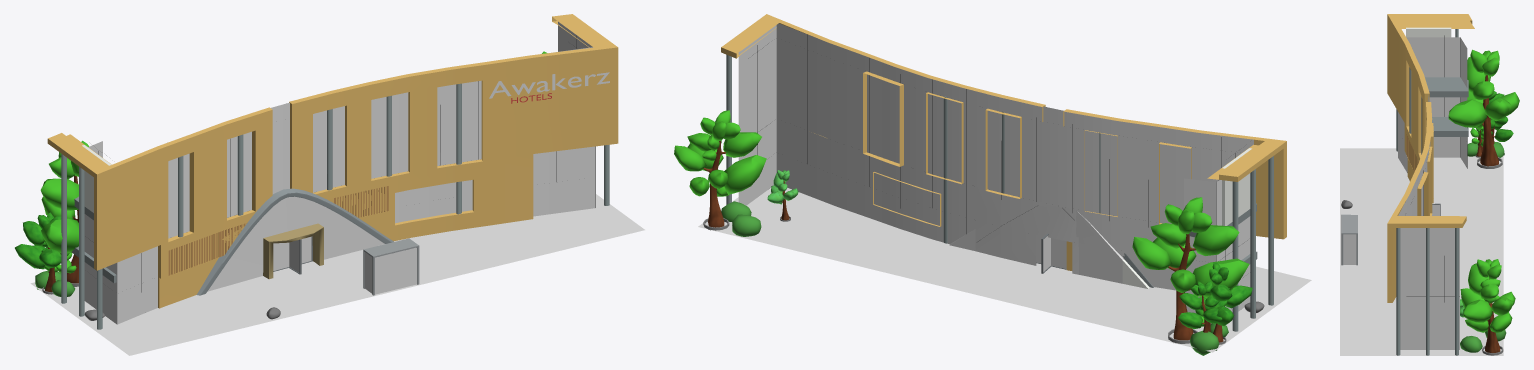
File: Train_Station_T2(2).fbx
The picture shows the model from 3 angles, left to right: view 1: azimuth 30°, elevation 25°; view 2: azimuth 150°, elevation 25°; view 3: azimuth 270°, elevation 25°; orthographic projection. The views are drawn at different scales.
Visible parts, largest first — view 1: Train Station.010, Train Station.014, Train Station.008, Ground.004, Tree.008, Cube.012, Tree.006, Train Station.009, TS_SpinDoor.001, Train Station.013, Text.003; view 2: Train Station.010, Train Station.014, Ground.004, Train Station.008, Tree.008, Tree.011, Tree.006, Tree.007, TS_SpinDoor.001, Tree.010, Bush.006, Bush.004; view 3: Ground.004, Train Station.014, Train Station.008, Tree.008, Tree.011, Train Station.010, Cube.012, Tree.007, Bush.007, Tree.009, Train Station.009, Tree.006.
Part boxes in pixels (x1=…): Train Station.010: x1=218, y1=66, x2=456, y2=287; Train Station.014: x1=453, y1=14, x2=618, y2=230; Train Station.008: x1=47, y1=124, x2=222, y2=329; Ground.004: x1=30, y1=194, x2=644, y2=355; Tree.008: x1=40, y1=140, x2=88, y2=286; Cube.012: x1=363, y1=238, x2=419, y2=295; Tree.006: x1=15, y1=212, x2=61, y2=294; Train Station.009: x1=168, y1=231, x2=220, y2=275; TS_SpinDoor.001: x1=273, y1=236, x2=312, y2=274; Train Station.013: x1=334, y1=186, x2=388, y2=217; Text.003: x1=489, y1=72, x2=609, y2=98; Train Station.010: x1=886, y1=62, x2=1126, y2=283; Train Station.014: x1=721, y1=14, x2=891, y2=224; Ground.004: x1=698, y1=188, x2=1311, y2=352; Train Station.008: x1=1122, y1=119, x2=1286, y2=331; Tree.008: x1=1132, y1=197, x2=1249, y2=343; Tree.011: x1=674, y1=110, x2=766, y2=230; Tree.006: x1=1199, y1=262, x2=1252, y2=344; Tree.007: x1=1178, y1=281, x2=1227, y2=332; TS_SpinDoor.001: x1=1036, y1=233, x2=1066, y2=273; Tree.010: x1=767, y1=170, x2=798, y2=221; Bush.006: x1=732, y1=214, x2=761, y2=236; Bush.004: x1=1190, y1=330, x2=1218, y2=355; Ground.004: x1=1340, y1=148, x2=1503, y2=355; Train Station.014: x1=1387, y1=166, x2=1466, y2=355; Train Station.008: x1=1387, y1=14, x2=1474, y2=181; Tree.008: x1=1448, y1=49, x2=1519, y2=168; Tree.011: x1=1460, y1=259, x2=1515, y2=355; Train Station.010: x1=1417, y1=71, x2=1433, y2=215; Cube.012: x1=1341, y1=214, x2=1357, y2=265; Tree.007: x1=1482, y1=117, x2=1513, y2=143; Bush.007: x1=1460, y1=336, x2=1482, y2=352; Tree.009: x1=1470, y1=126, x2=1483, y2=157; Train Station.009: x1=1406, y1=134, x2=1416, y2=171; Tree.006: x1=1478, y1=91, x2=1504, y2=152.
Bounding box in the file's own units: 6521 × 1891 × 2201.
24 materials, 3 textured.
